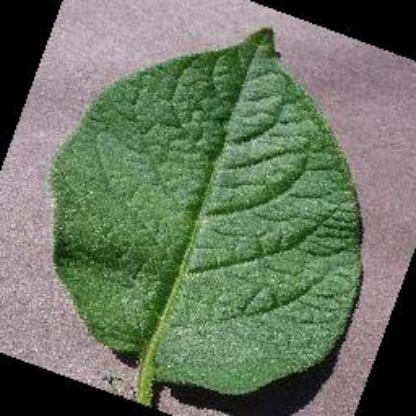Healthy-plant: (44, 25, 368, 416)
